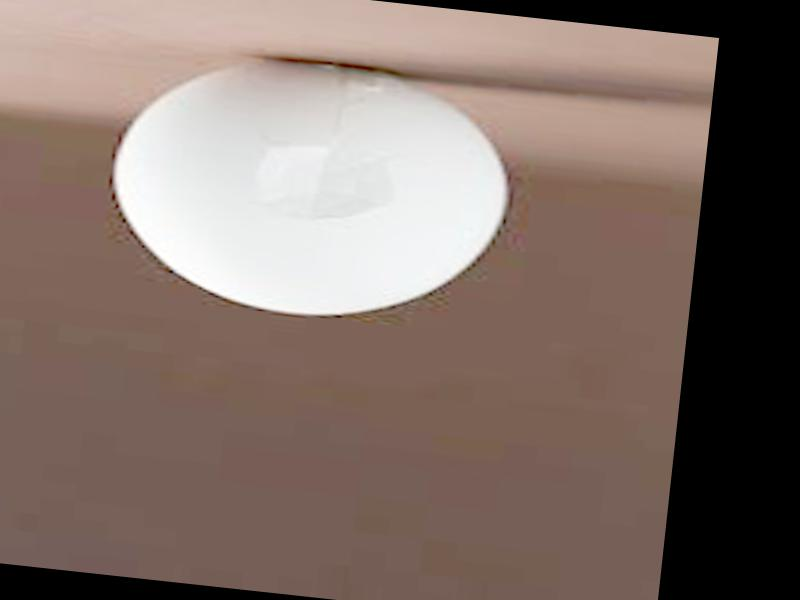Eggs: (102, 41, 512, 334)
